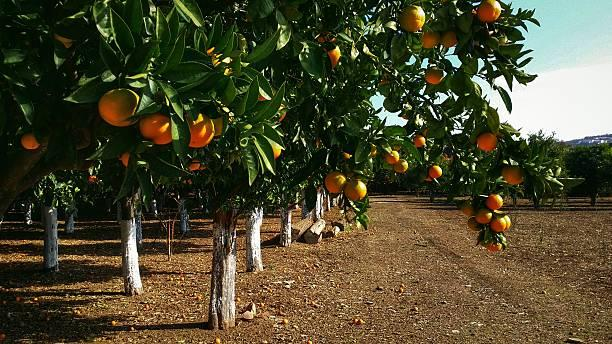orange: (99, 89, 142, 128), (319, 172, 374, 201), (384, 0, 436, 29), (182, 111, 215, 150), (142, 113, 180, 143), (476, 4, 512, 33), (322, 42, 356, 67), (423, 63, 455, 89), (424, 32, 458, 52), (390, 151, 413, 179), (476, 205, 501, 228), (344, 178, 367, 199), (475, 134, 499, 153), (495, 214, 517, 233), (499, 166, 522, 181), (492, 194, 506, 207)
